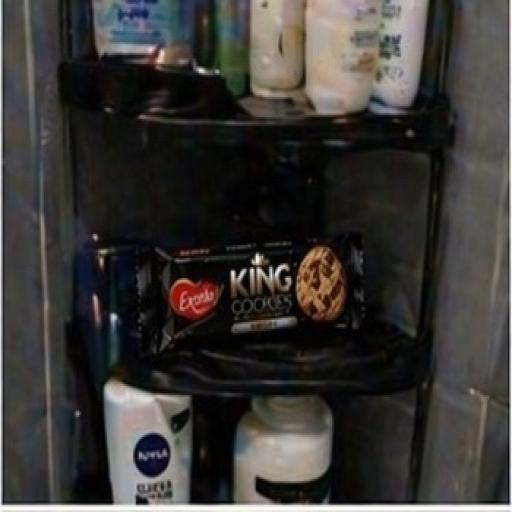king-cooking: (82, 170, 452, 434)
